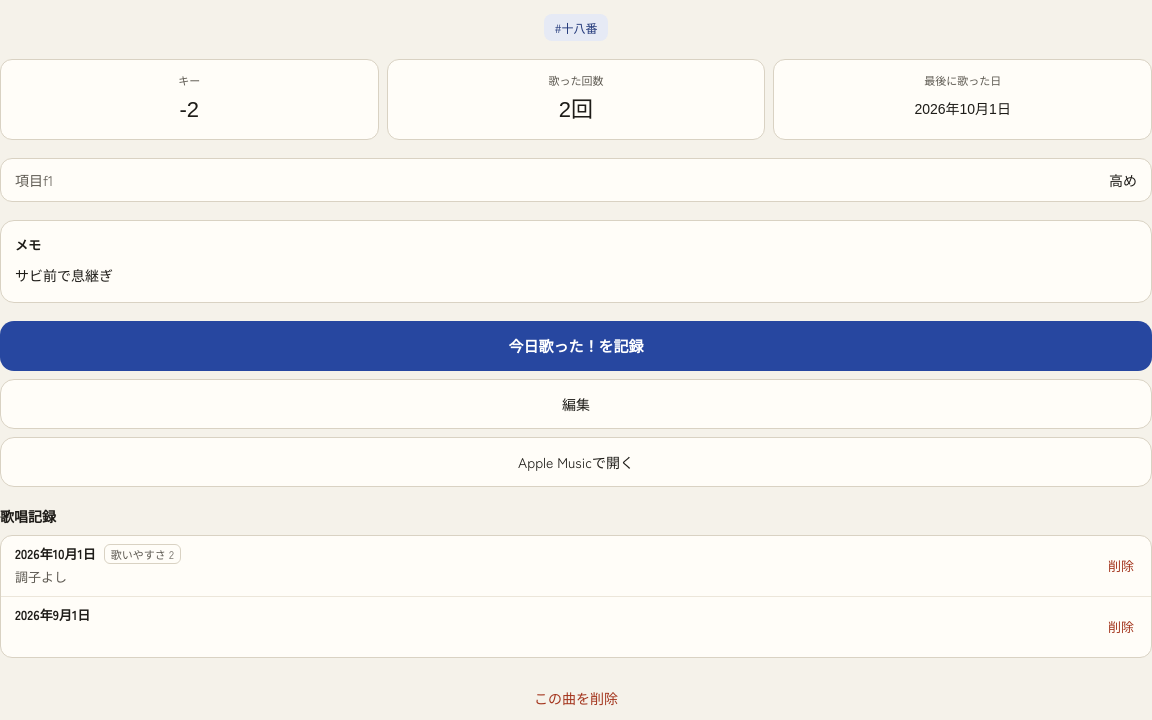
it: SongDetail: 歌唱記録 › 記録の削除に失敗したらメッセージ
(page scrolled)
Click the button with aria-label "2026年10月1日の記録を削除" at (1121, 566), box x1=1099 y1=544 x2=1143 y2=588
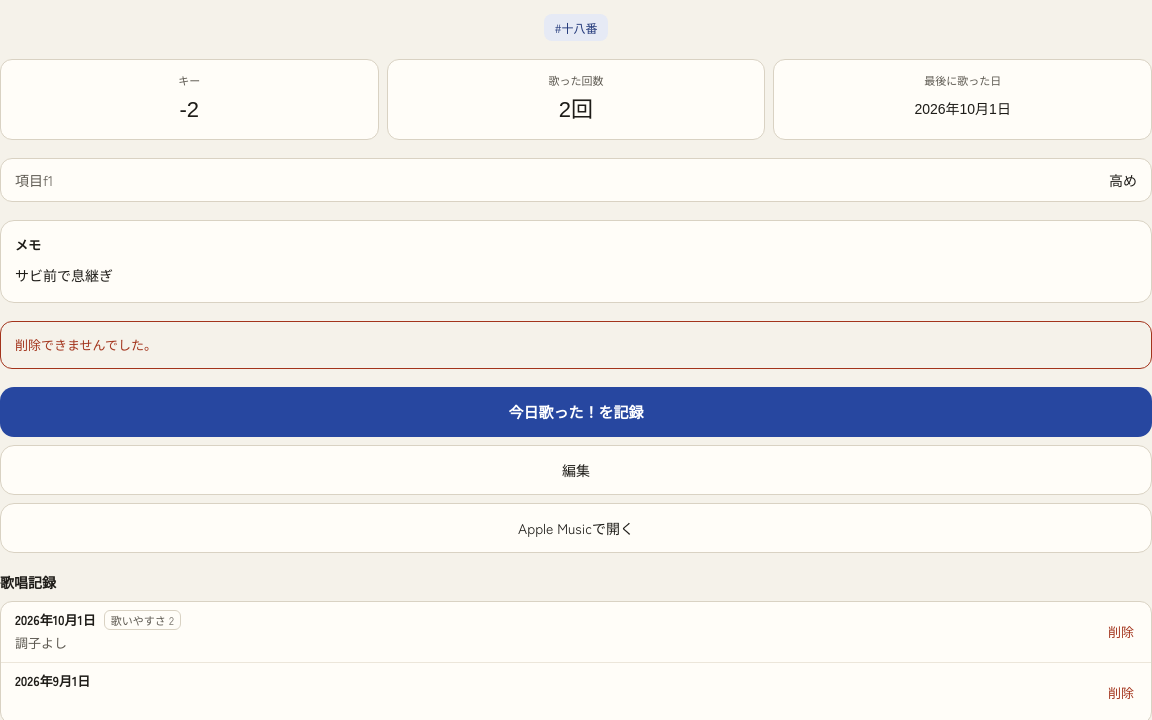
Expected: the message reads "削除できませんでした。", x1=15 y1=335 x2=157 y2=354
